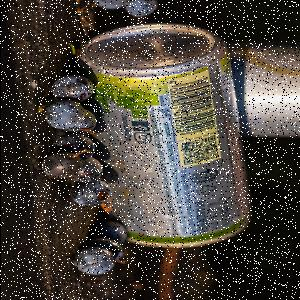Can: (82, 24, 252, 252)
